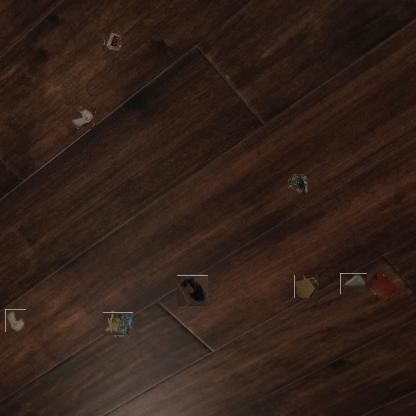dirty: (177, 275, 208, 305), (105, 310, 132, 337), (340, 273, 367, 294), (4, 310, 27, 332), (73, 106, 95, 128), (288, 174, 308, 194), (103, 32, 123, 52)
liquid: (368, 271, 398, 301), (294, 275, 318, 298)
